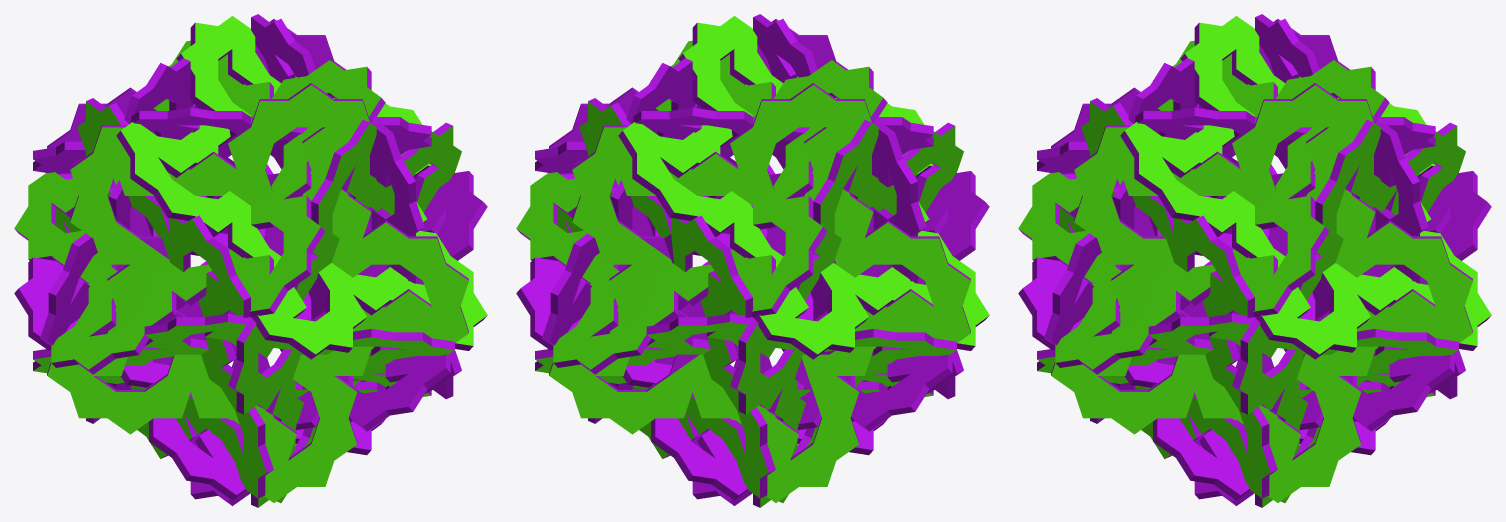
Rendered from TwistDodecahedron.glb.
3 views of the same model, side by side, from view 1: azimuth 30°, elevation 25°; view 2: azimuth 150°, elevation 25°; view 3: azimuth 270°, elevation 25° (orthographic).
Visible parts, largest first — view 1: 3D_ESCHERESQUE_TWIST_DODECAHEDRON_4; view 2: 3D_ESCHERESQUE_TWIST_DODECAHEDRON_4; view 3: 3D_ESCHERESQUE_TWIST_DODECAHEDRON_4.
Boxes of the visible parts, bbox=[...] form: 3D_ESCHERESQUE_TWIST_DODECAHEDRON_4: bbox=[14, 14, 487, 507]; 3D_ESCHERESQUE_TWIST_DODECAHEDRON_4: bbox=[516, 14, 989, 507]; 3D_ESCHERESQUE_TWIST_DODECAHEDRON_4: bbox=[1018, 14, 1491, 507].
Size of the model in its own units: 109 by 100 by 104.
